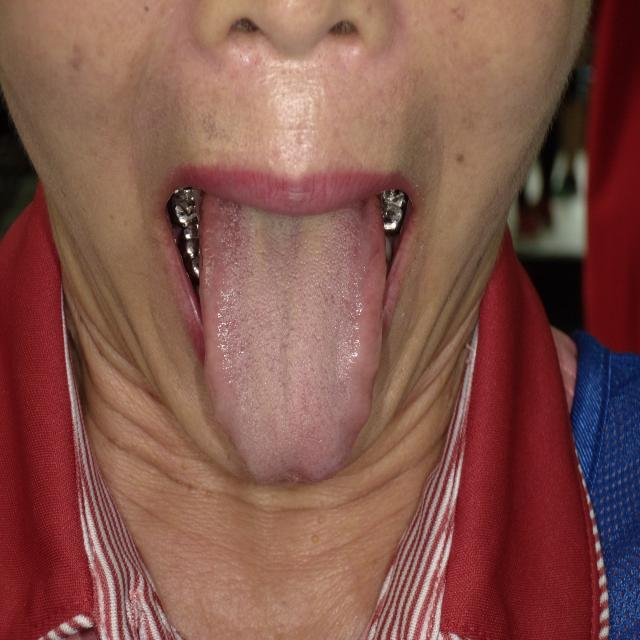baitaishe: (199, 193, 386, 486)
chihenshe: (203, 335, 244, 457), (350, 346, 382, 451)
